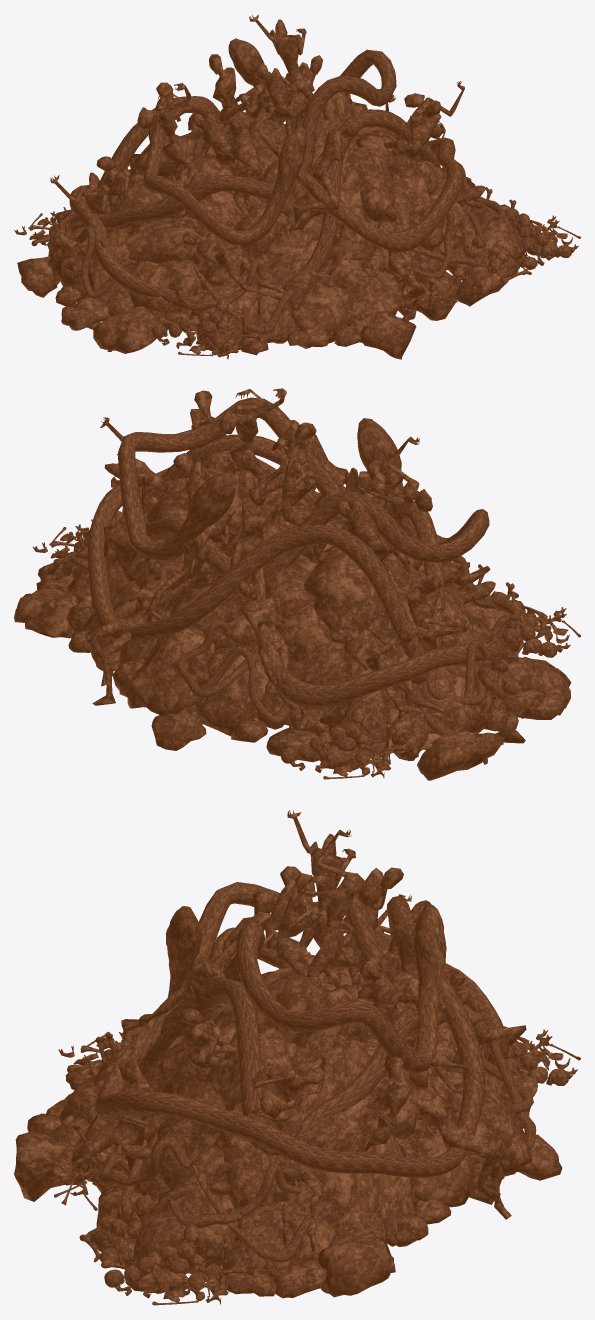
File: aeg277_093.glb
3 views of the same model, one above another, from view 1: azimuth 30°, elevation 25°; view 2: azimuth 150°, elevation 25°; view 3: azimuth 270°, elevation 25° (orthographic). The views are drawn at different scales.
Parts seen in each view (by area): view 1: mesh[3], mesh[0], mesh[2], mesh[4]; view 2: mesh[3], mesh[0], mesh[2], mesh[4]; view 3: mesh[3], mesh[0], mesh[2], mesh[4].
Boxes of the visible parts, bbox=[...] form: mesh[3]: bbox=[17, 92, 557, 359]; mesh[0]: bbox=[47, 38, 505, 334]; mesh[2]: bbox=[48, 14, 475, 351]; mesh[4]: bbox=[14, 187, 580, 359]; mesh[3]: bbox=[14, 448, 571, 780]; mesh[0]: bbox=[60, 397, 520, 735]; mesh[2]: bbox=[47, 388, 525, 764]; mesh[4]: bbox=[32, 511, 580, 779]; mesh[3]: bbox=[14, 930, 562, 1298]; mesh[0]: bbox=[94, 873, 536, 1262]; mesh[2]: bbox=[72, 810, 526, 1252]; mesh[4]: bbox=[42, 1026, 580, 1305].
Bounding box in the file's own units: 8.33 × 4.85 × 6.51.
5 materials, 5 textured.
